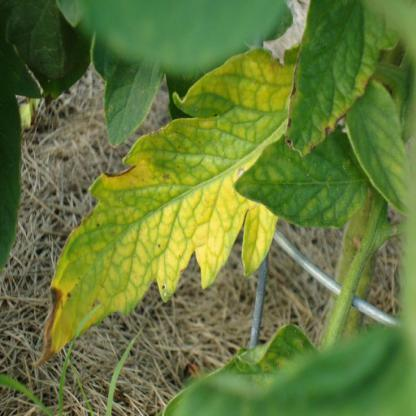Tomato mold leaf: (36, 45, 300, 359), (280, 3, 388, 161), (235, 131, 379, 233)
